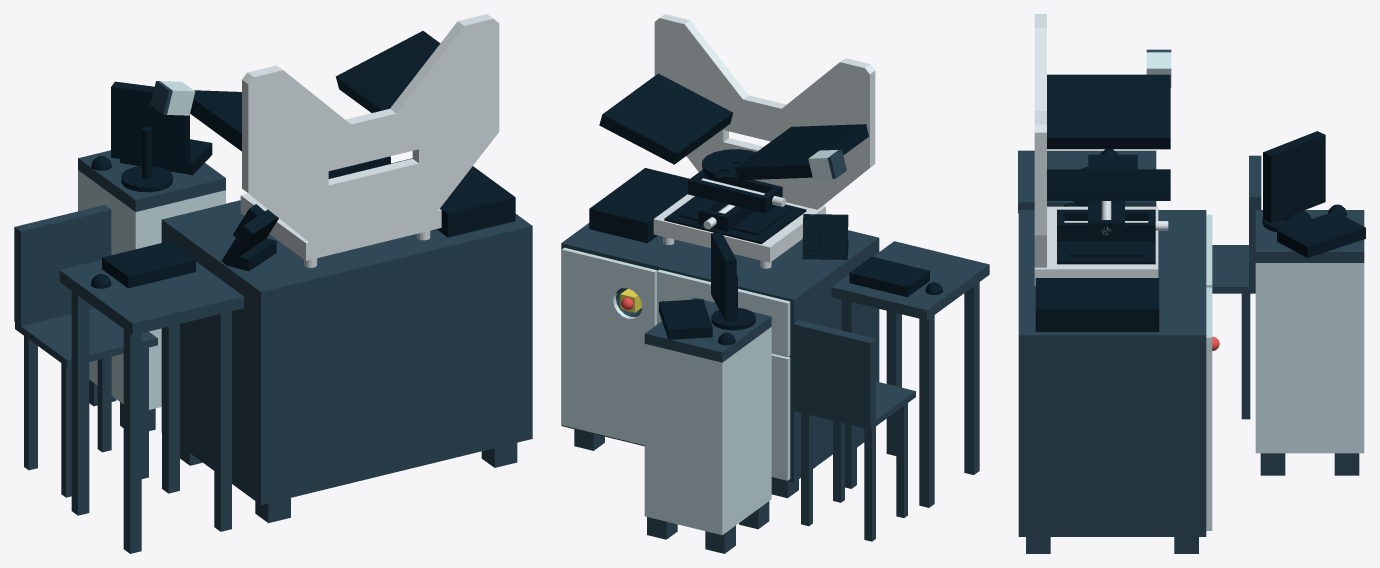
The model's file is gtest.glb.
3 views of the same model, side by side, from view 1: azimuth 30°, elevation 25°; view 2: azimuth 150°, elevation 25°; view 3: azimuth 270°, elevation 25° (orthographic). The views are drawn at different scales.
Parts seen in each view (by area): view 1: machine 1; view 2: machine 1; view 3: machine 1.
Part boxes in pixels (x1,y1,x2,y2): machine 1: (14,14,532,553); machine 1: (561,14,989,553); machine 1: (1018,14,1365,553).
Size of the model in its own units: 17.68 by 18.79 by 14.08.
